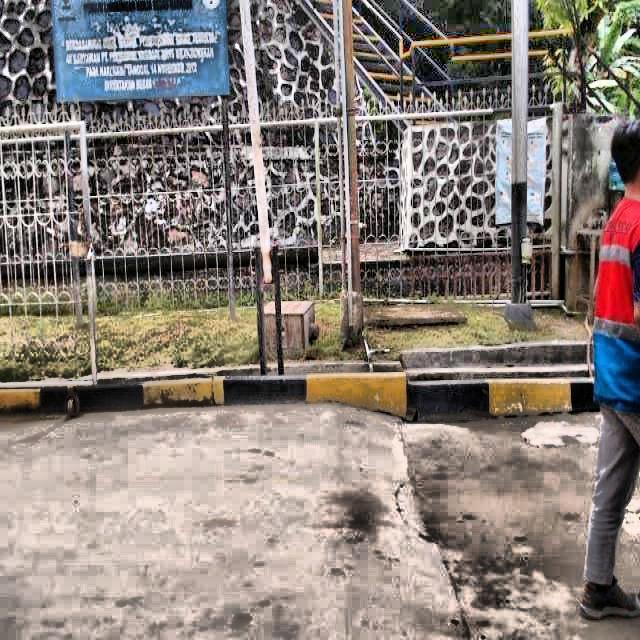safety_jacket: (586, 184, 640, 419)
